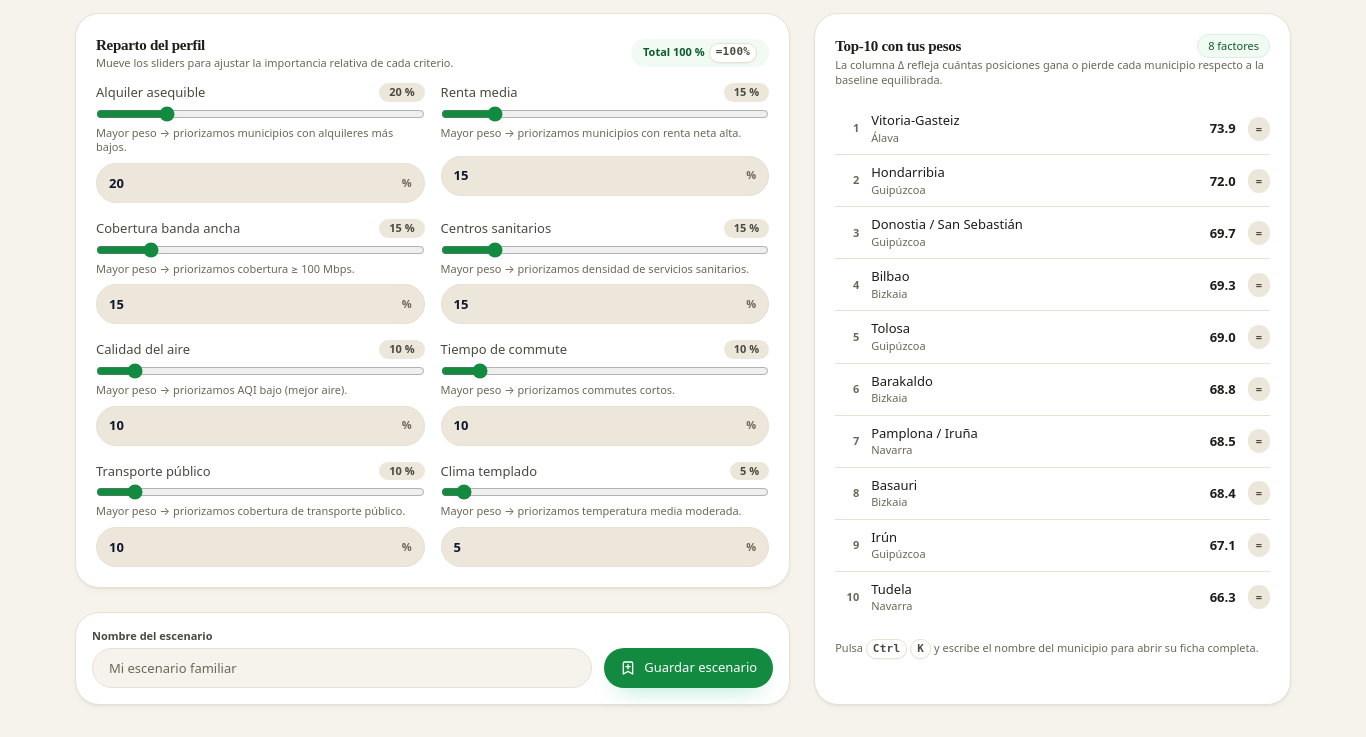
Test: EscenariosPage › guarda escenarios desde el formulario
(page scrolled)
Type "Mi escenario" into the field labelled "Nombre del escenario" at (342, 668), box [92, 648, 592, 688]
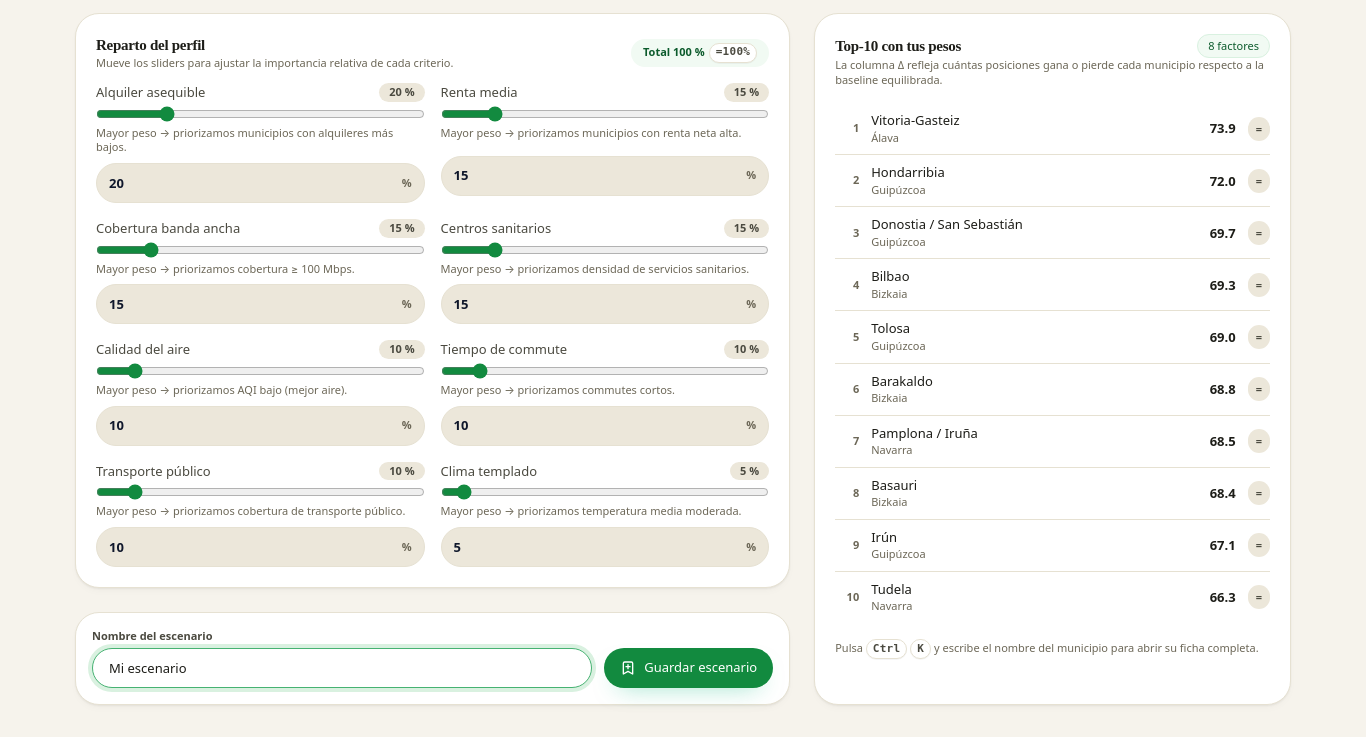
Click the button "Guardar escenario" at (689, 668), box [604, 648, 773, 688]
(page scrolled)
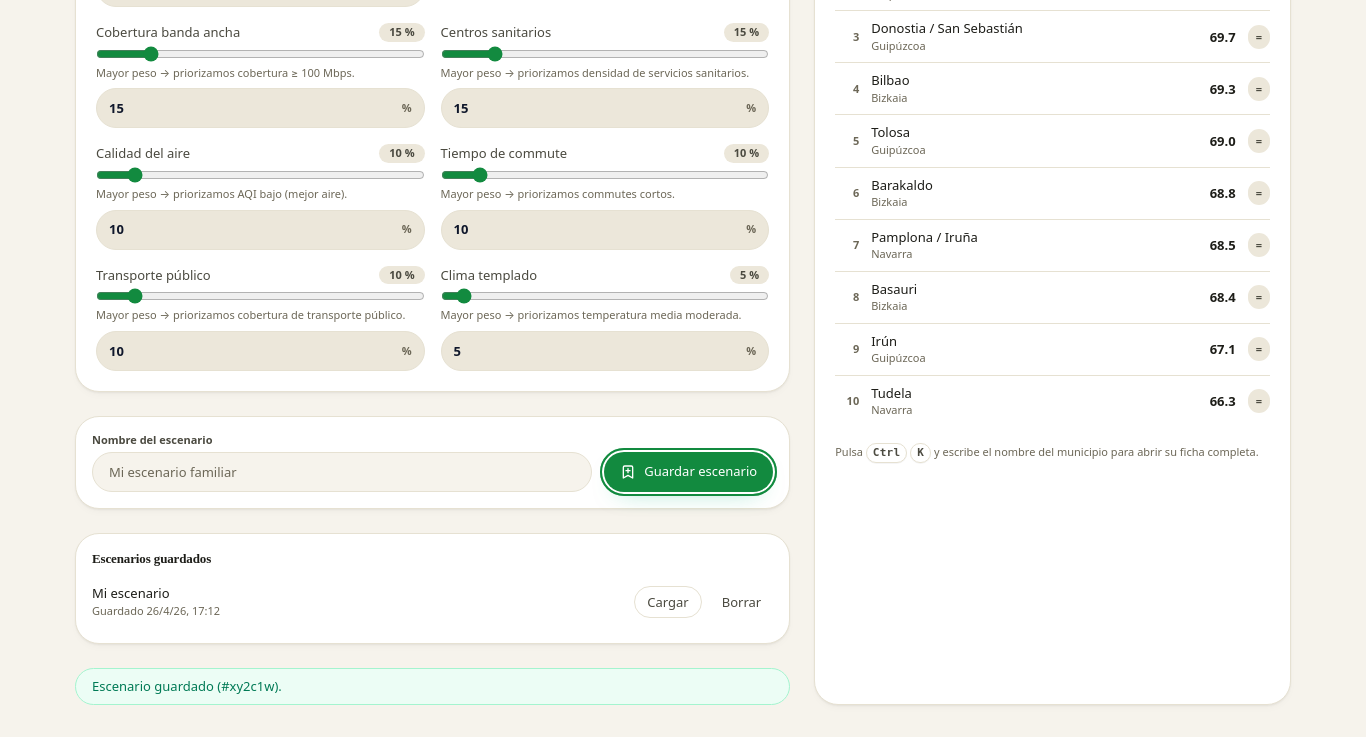
Result: the text "Mi escenario" is shown at [92, 584, 170, 602]
